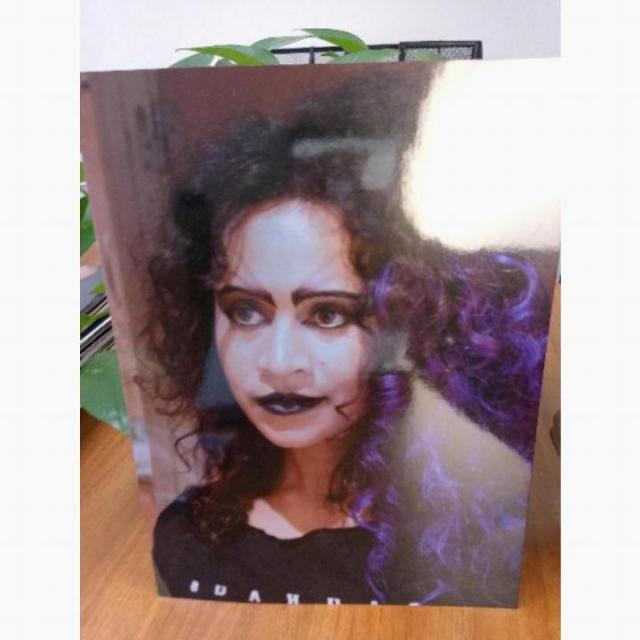photo: (79, 57, 559, 614)
